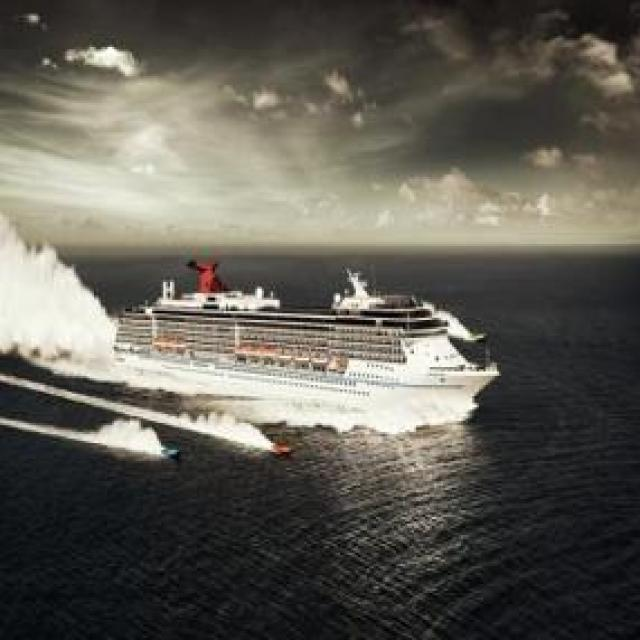houseboat: (270, 432, 298, 461), (470, 322, 492, 346), (157, 441, 183, 459)
passenger ship: (112, 278, 498, 408)
